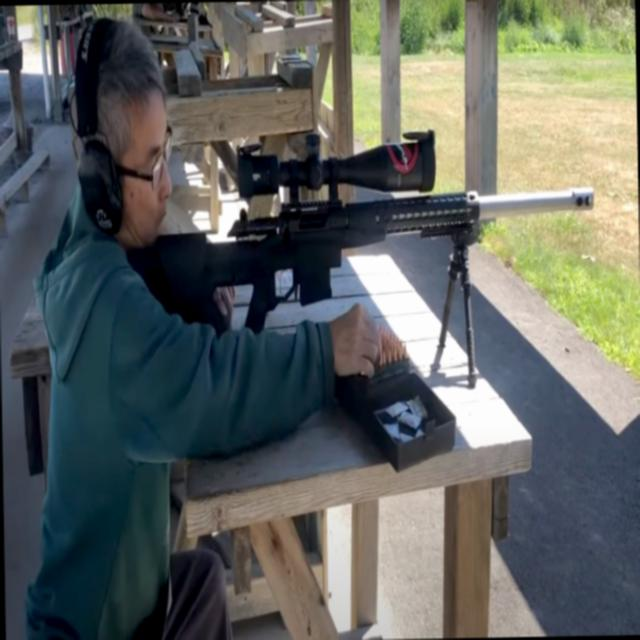rifle: (121, 113, 602, 414)
